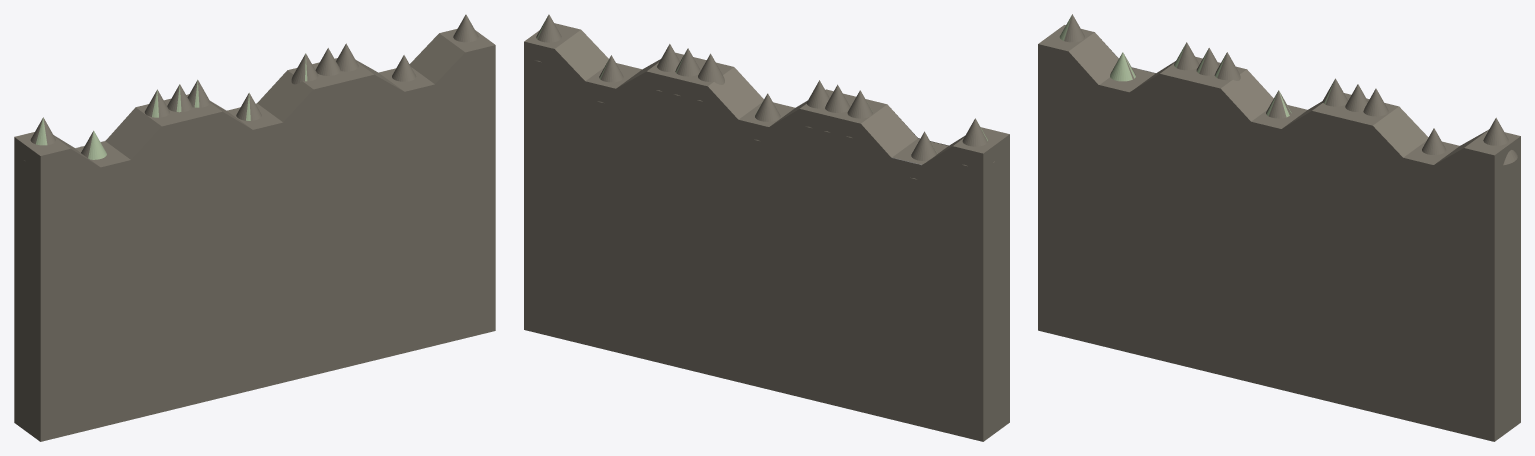
File: chinarda.fbx
The picture shows the model from 3 angles, left to right: view 1: azimuth 30°, elevation 25°; view 2: azimuth 150°, elevation 25°; view 3: azimuth 330°, elevation 25°; orthographic projection.
Parts seen in each view (by area): view 1: Cube; view 2: Cube; view 3: Cube.
Boxes of the visible parts, x1,y1,x2,y2 form: Cube: (14,14,495,441); Cube: (524,14,1009,441); Cube: (1038,14,1520,441).
Size of the model in its own units: 5053 by 3241 by 504.
Materials: 1 (1 with a texture image).
